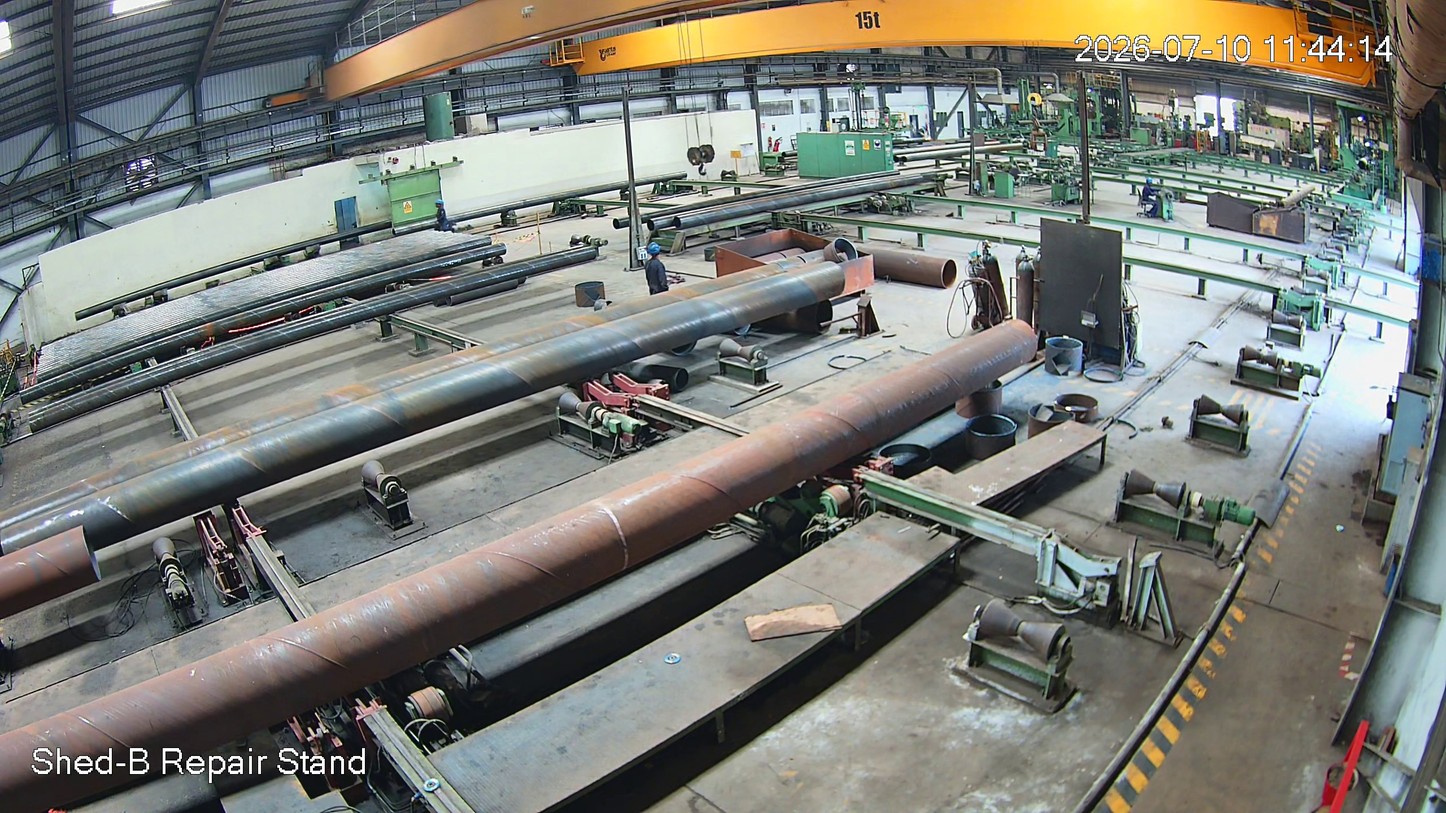Helmet: (643, 232, 663, 266), (1143, 174, 1156, 191), (433, 196, 445, 211)
Person: (637, 235, 675, 299), (1140, 177, 1162, 220), (432, 198, 452, 233)
